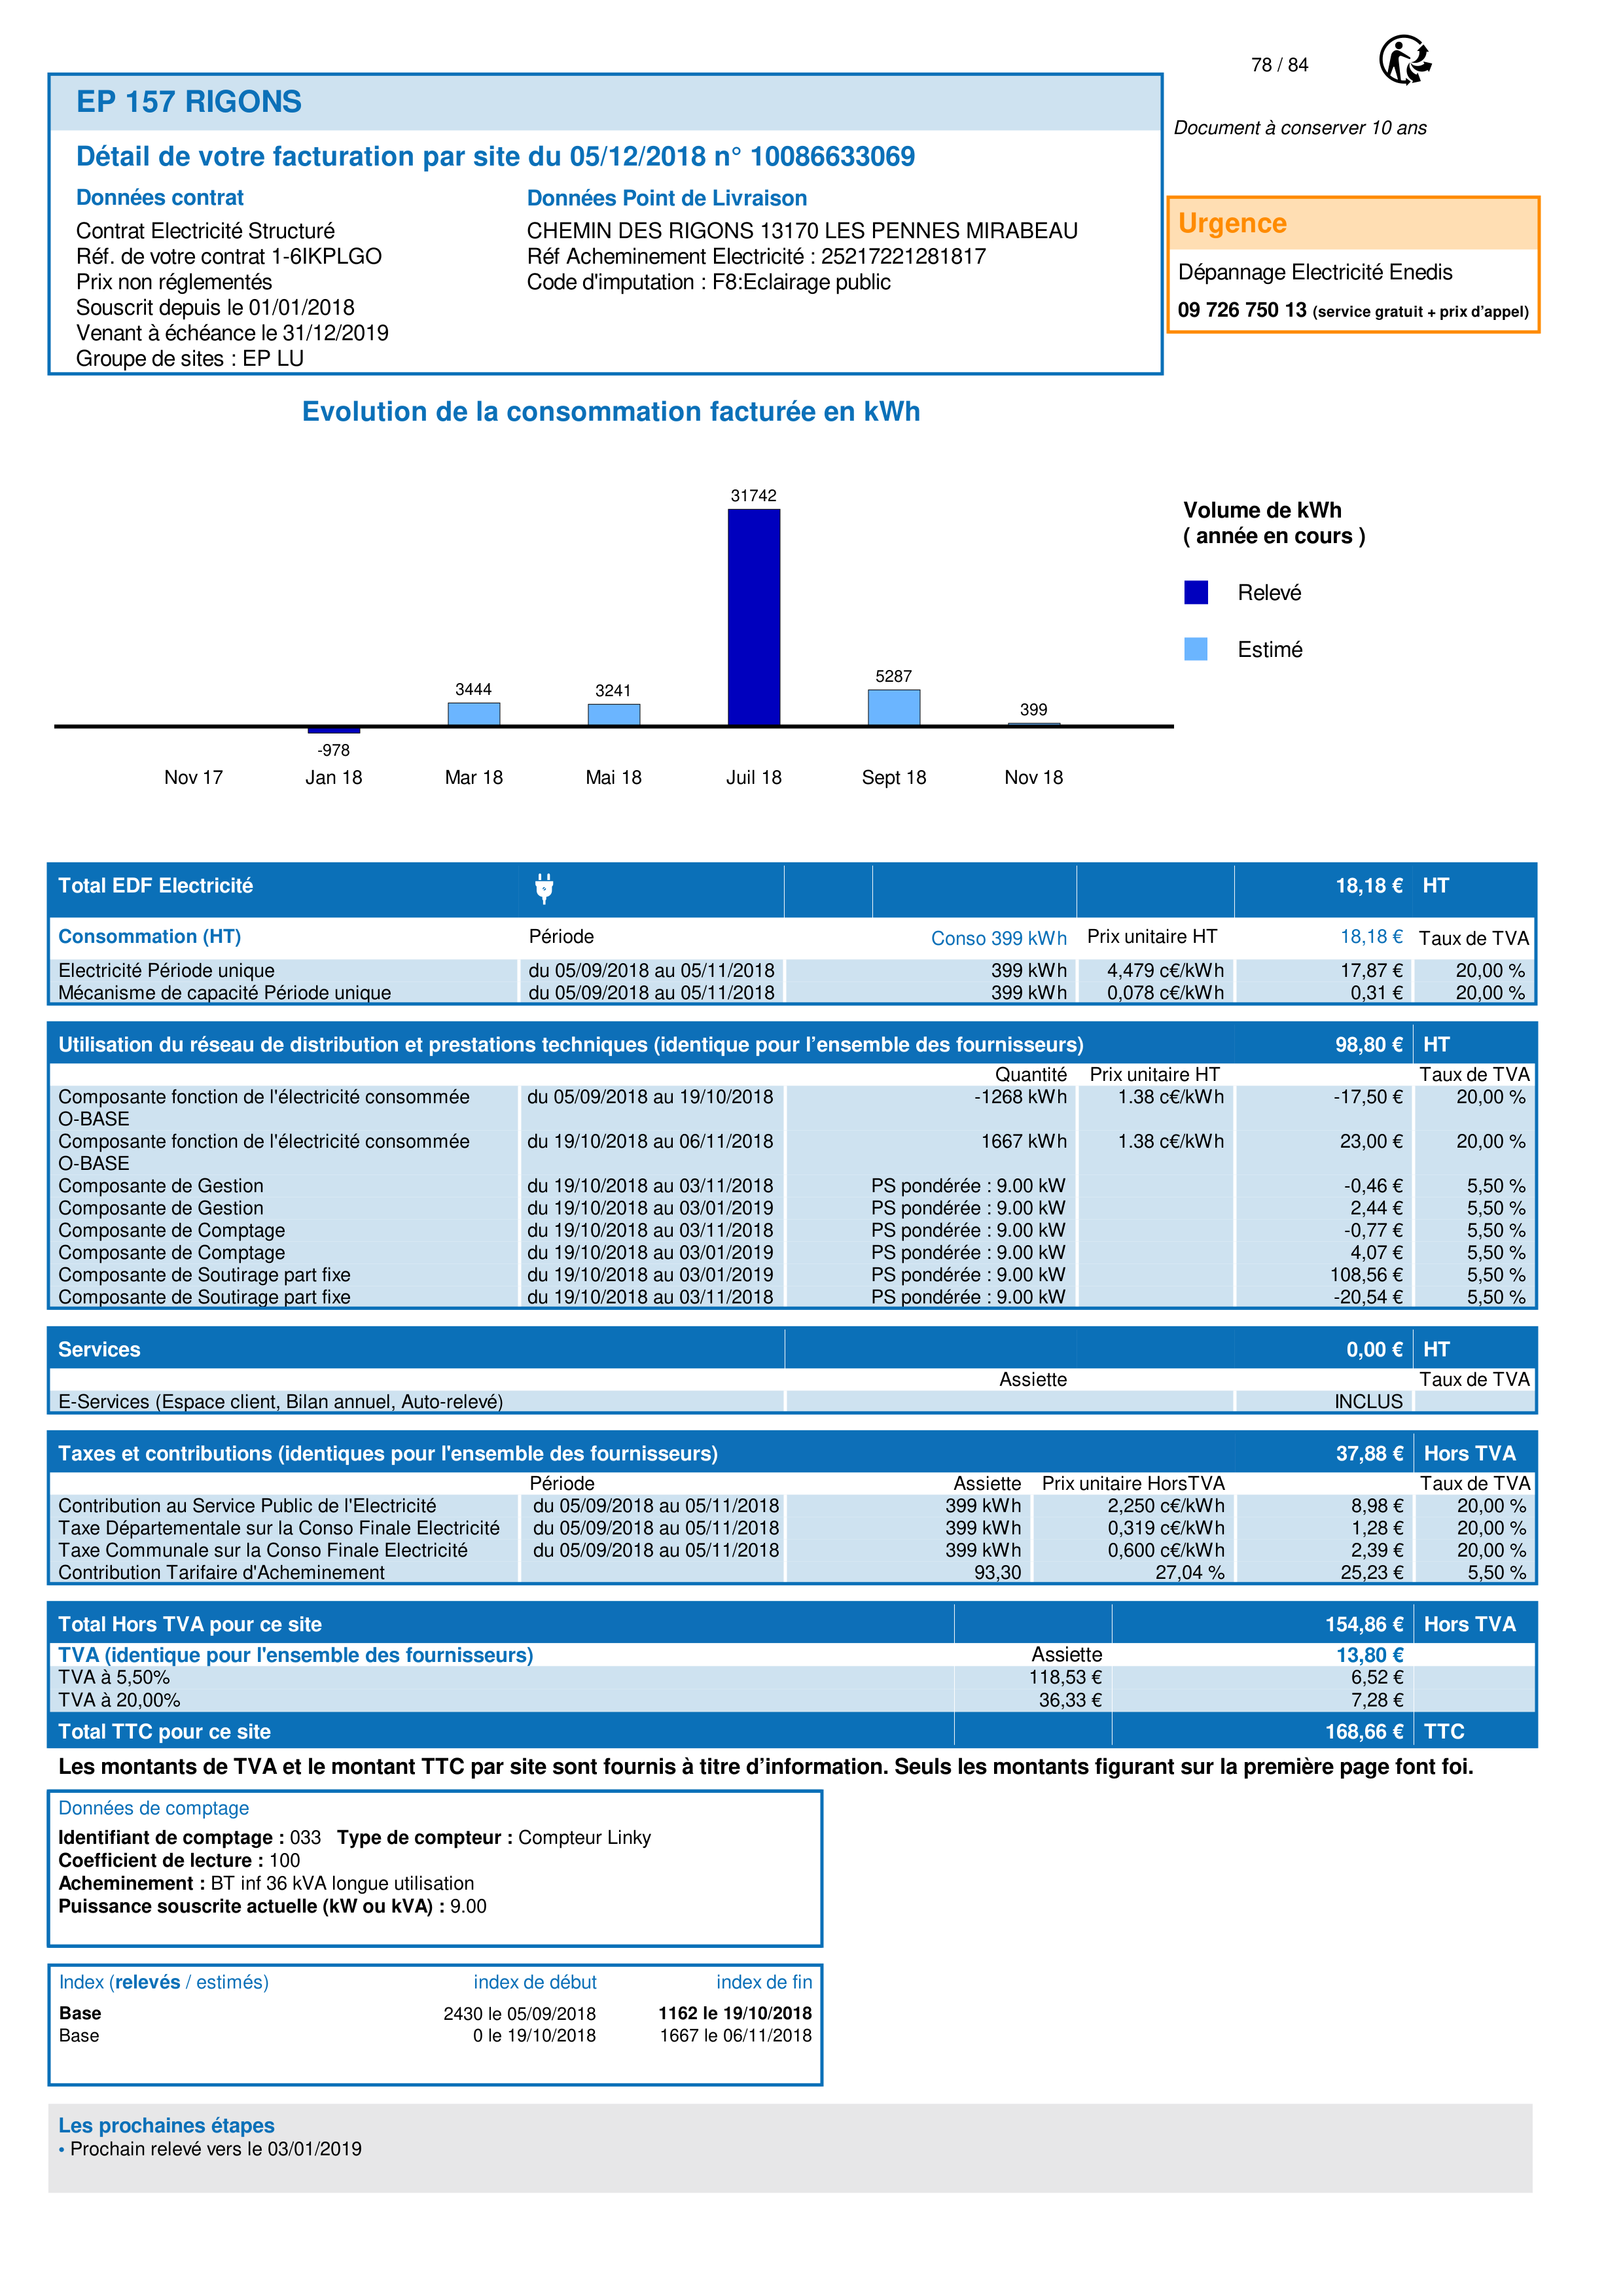area: (46, 1966, 822, 2082)
type_indicator: (49, 1964, 283, 1998)
